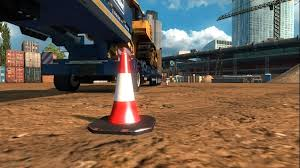cones: (86, 52, 156, 134)
